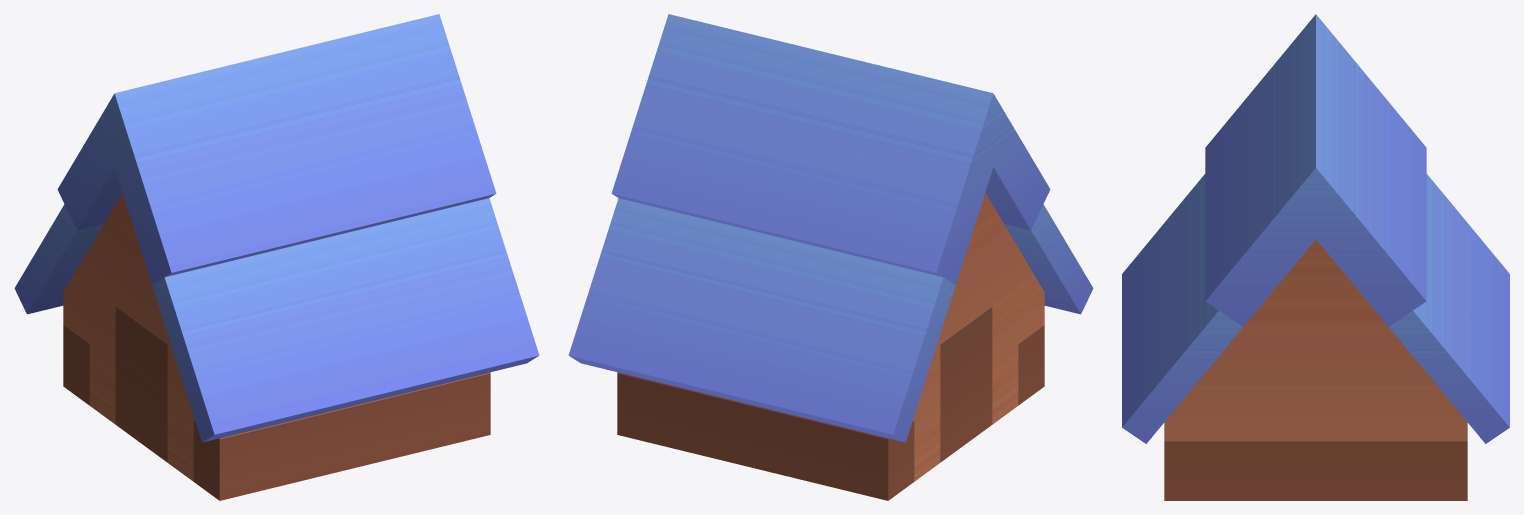
Rendered from unit-house.glb.
3 views of the same model, side by side, from view 1: azimuth 30°, elevation 25°; view 2: azimuth 150°, elevation 25°; view 3: azimuth 270°, elevation 25° (orthographic). The views are drawn at different scales.
Visible parts, largest first — view 1: unit-house; view 2: unit-house; view 3: unit-house.
Boxes of the visible parts, x1,y1,x2,y2 form: unit-house: (14, 14, 539, 500); unit-house: (568, 14, 1093, 500); unit-house: (1122, 14, 1509, 500).
Bounding box in the file's own units: 0.36 × 0.3781 × 0.384.
1 material, 1 textured.
